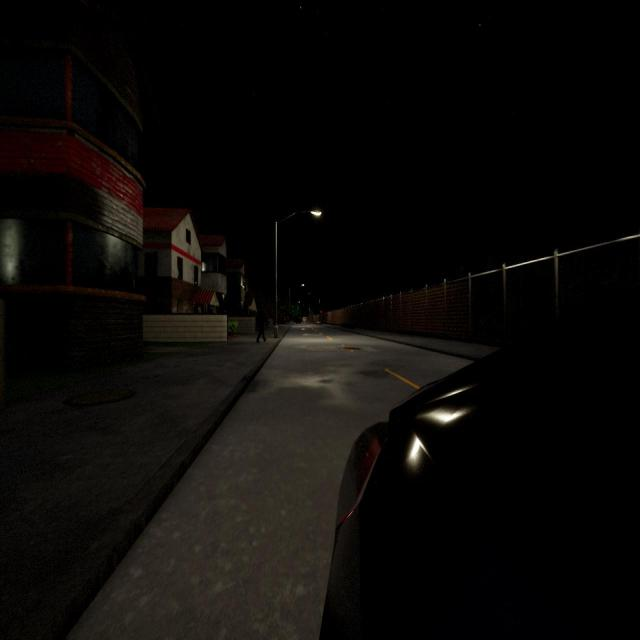Pedestrian: (252, 297, 268, 343)
Vehicle: (321, 291, 640, 640)
